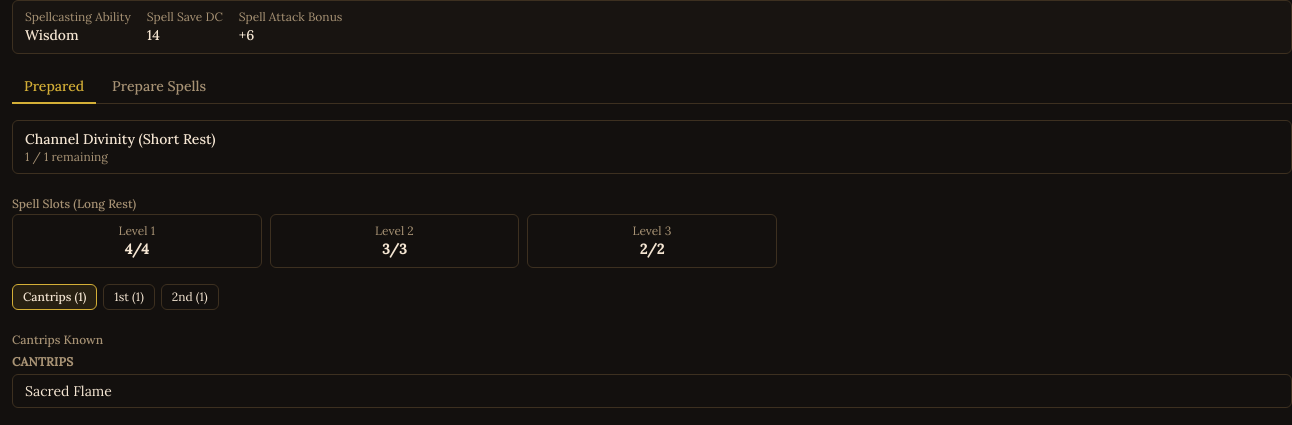
ClericSheet — prepare-from-class-list flow › shows the prepare limit (level + WIS mod) on the prepared list
Click the button with test id "spell-level-tab-1" at (129, 297), box [103,284,155,310]
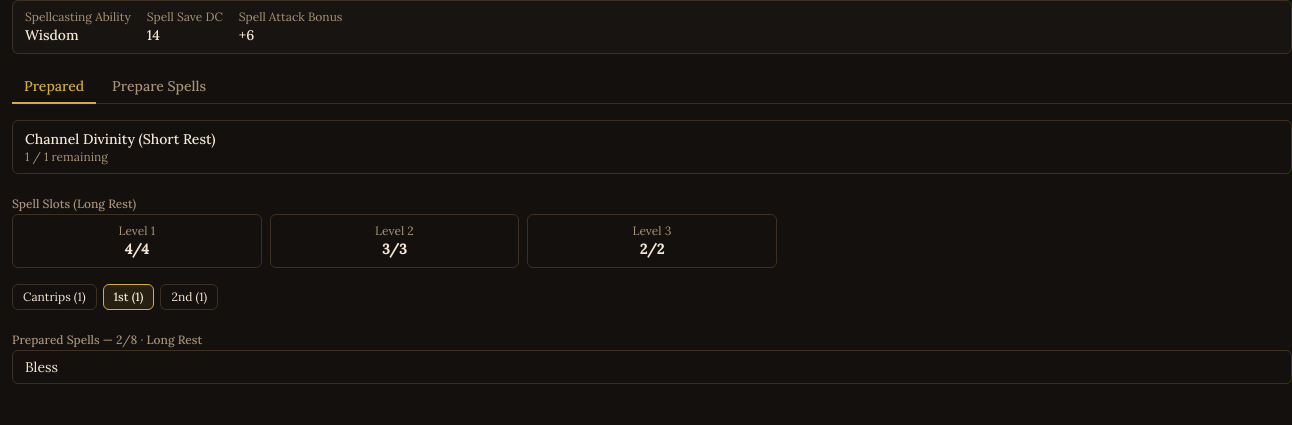
Check: the text "Prepared Spells — 2/8 · Long Rest" is shown, box [12,332,202,347]
